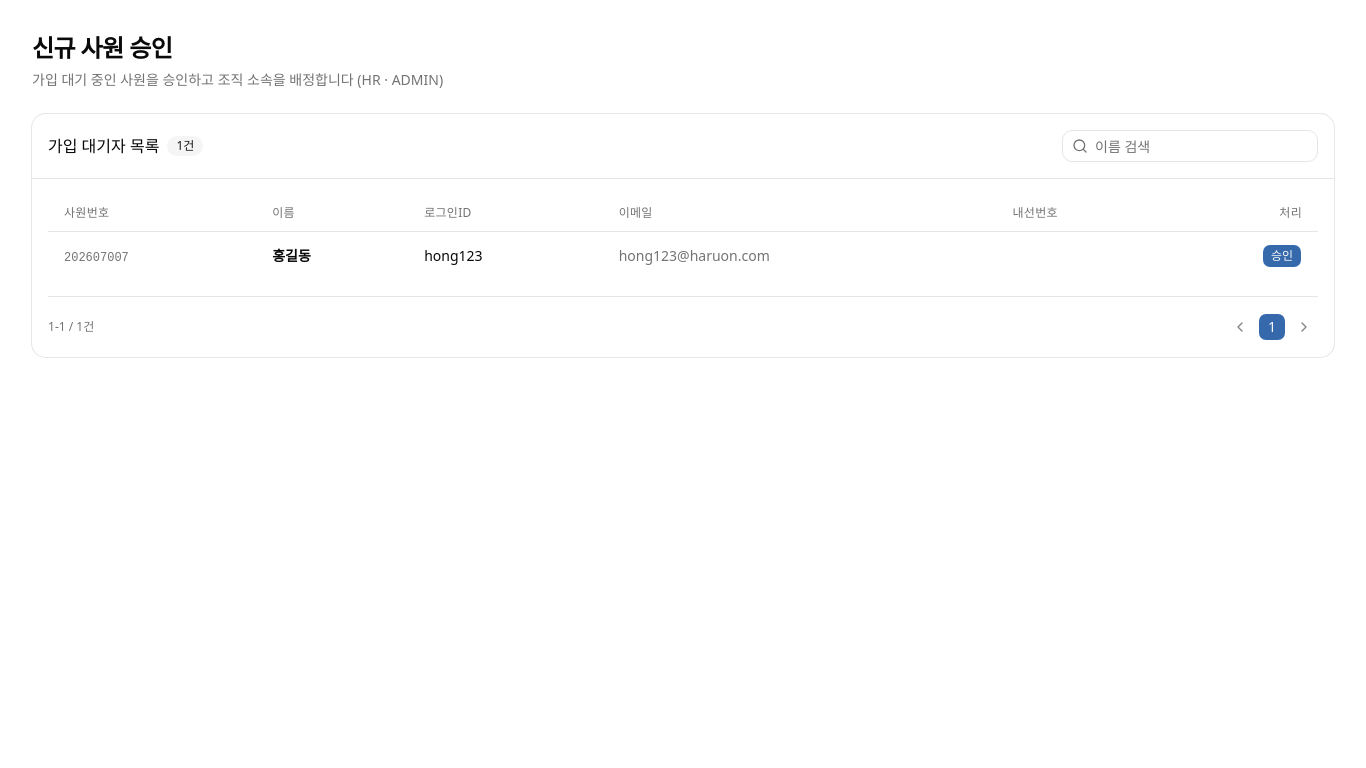
Test: NewEmployeeApprovalListPage - 마법사 1→2단계 전이 › 1단계 승인 성공 시 2단계(소속 배정 폼)로 자동 전환된다
This screenshot has width=1366, height=768.
Click the button "승인".
click(1282, 256)  # box [1262,244,1302,268]
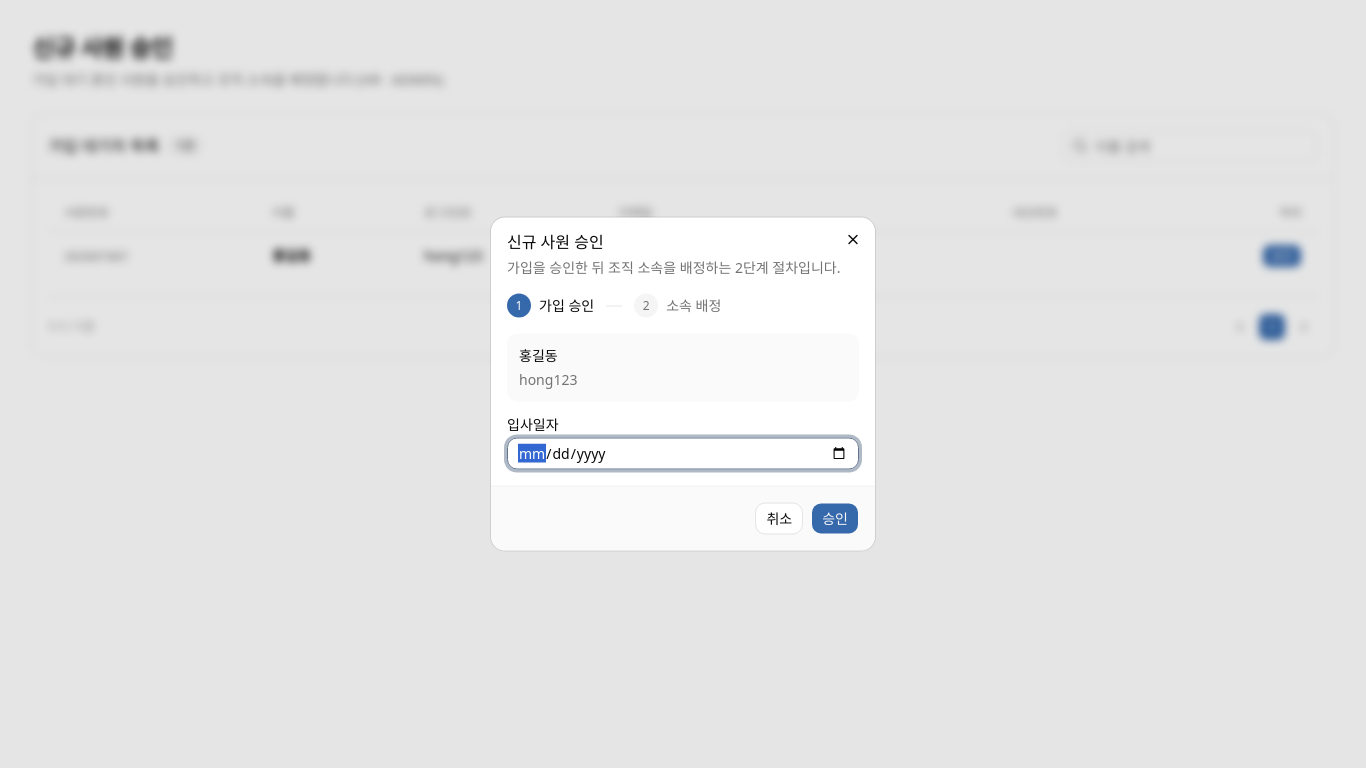
Expected: the dialog is shown, [491,218,875,550]
Type "2024-03-05" into the date field labelled "입사일자".
click(683, 454); type("2024-03-05")  # box [507,438,859,470]
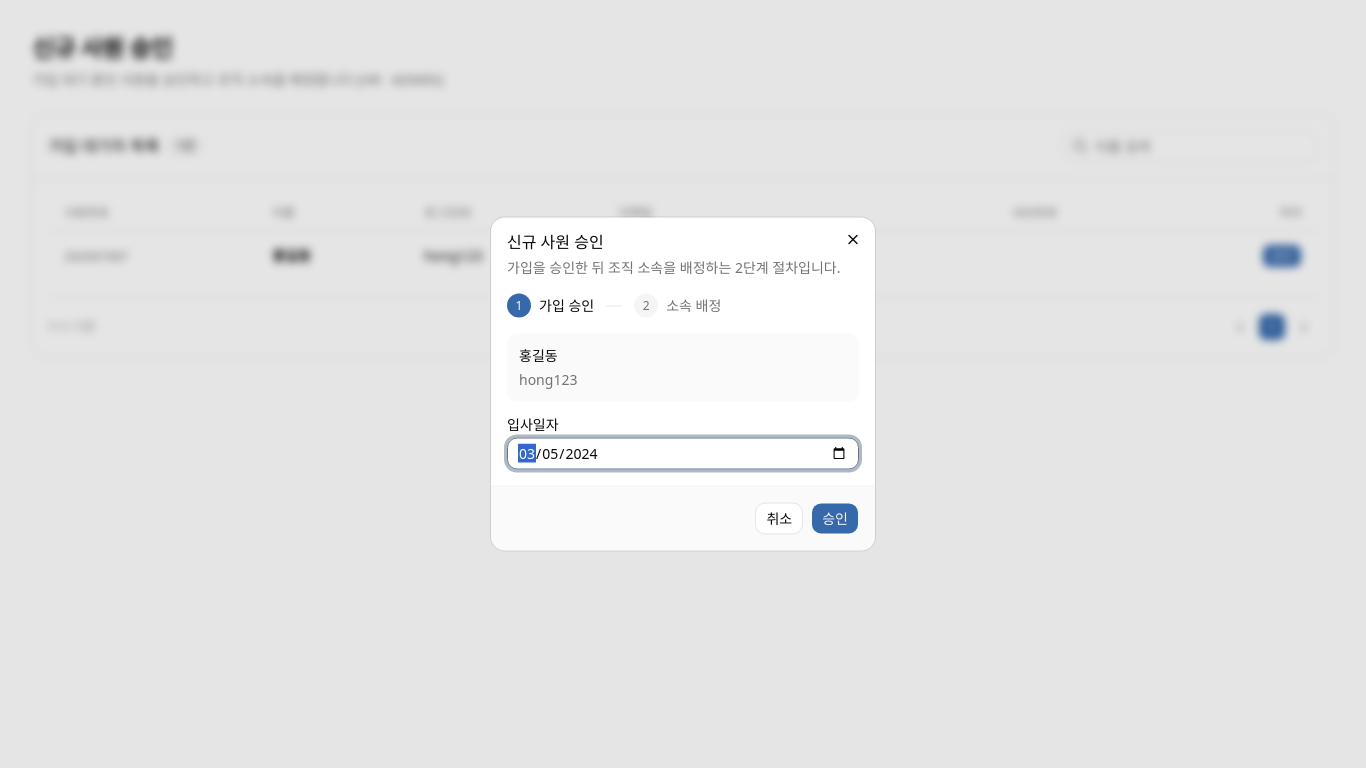
Click the button "승인".
click(835, 518)  # box [811,502,859,534]
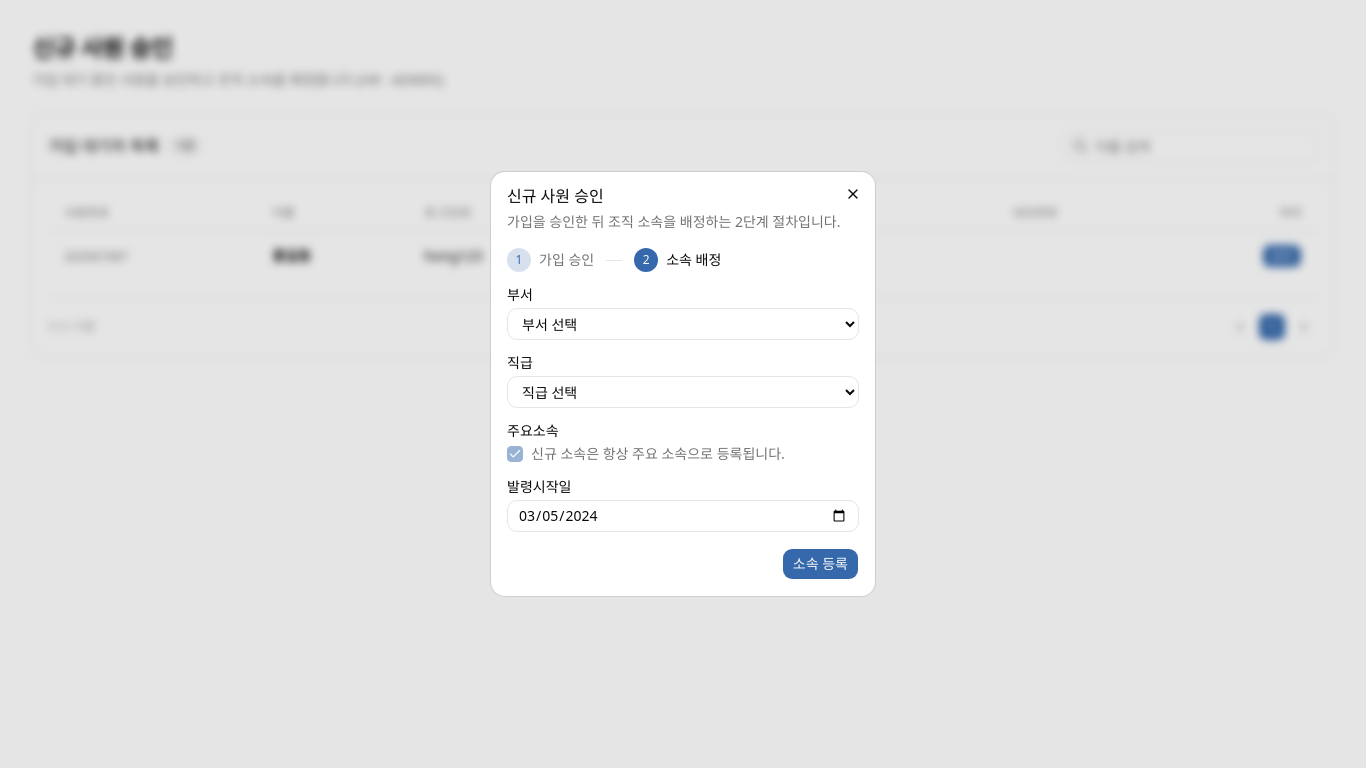
Expected: the date field labelled "발령시작일" holds "2024-03-05", [507,500,859,532]
